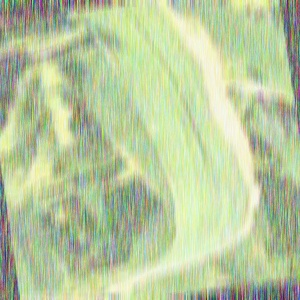Leaf_Blast: (154, 37, 253, 253)
